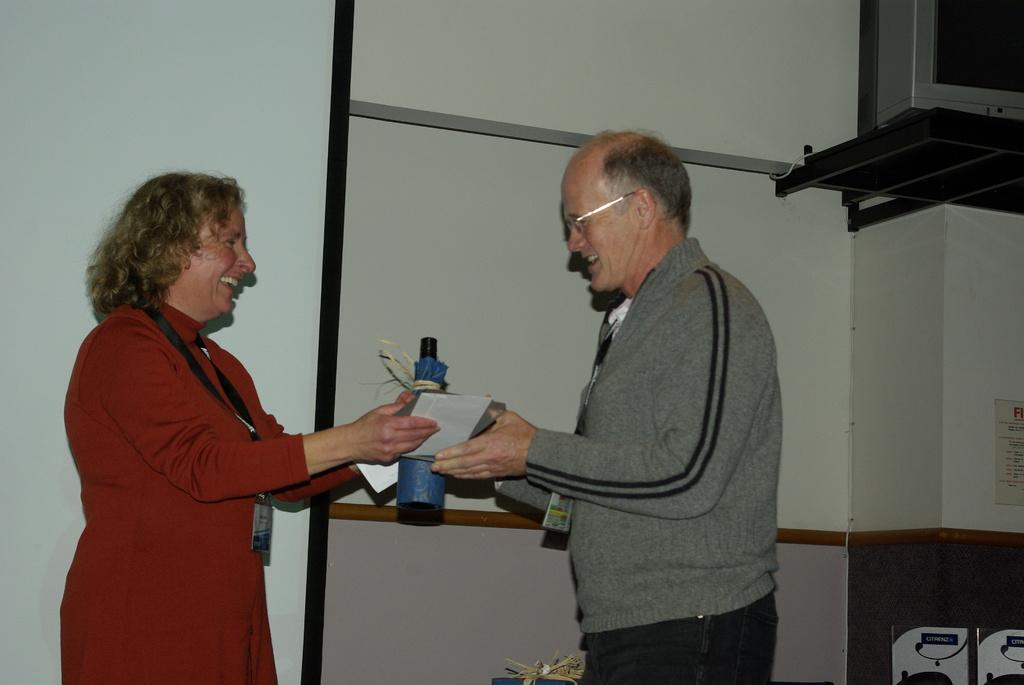no_helmet: (523, 176, 754, 292), (76, 222, 322, 298)
none: (546, 298, 798, 534), (66, 318, 292, 532)
